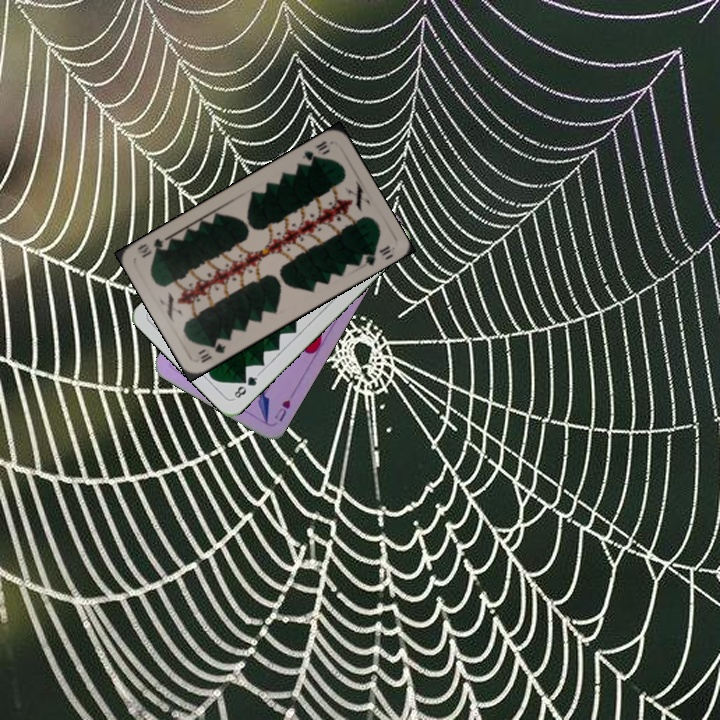G10: (298, 137, 333, 165), (196, 338, 228, 365)
G8: (229, 370, 262, 402)
HU: (270, 395, 293, 424)
